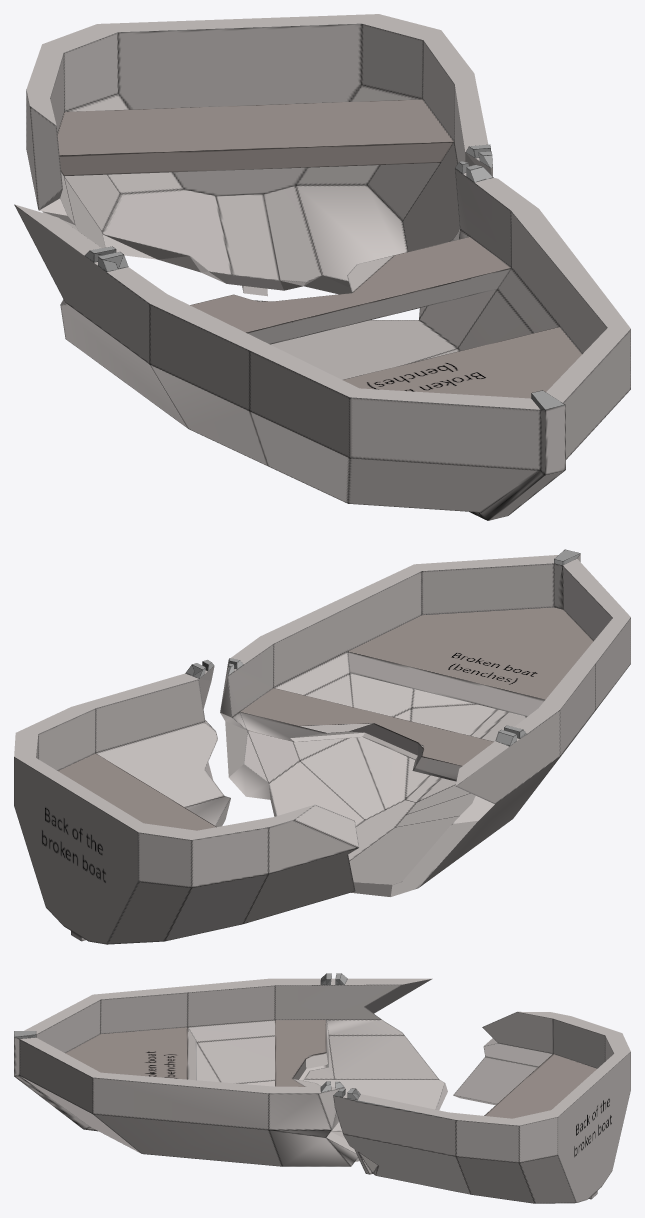
The model's file is Broken_boat01.fbx.
3 views of the same model, one above another, from view 1: azimuth 30°, elevation 25°; view 2: azimuth 150°, elevation 25°; view 3: azimuth 270°, elevation 25° (orthographic). The views are drawn at different scales.
Parts seen in each view (by area): view 1: Broken_boat01_front, Broken_boat01_back; view 2: Broken_boat01_front, Broken_boat01_back; view 3: Broken_boat01_front, Broken_boat01_back.
Part boxes in pixels (x1,y1,x2,y2): Broken_boat01_front: [14, 161, 630, 520]; Broken_boat01_back: [26, 14, 492, 296]; Broken_boat01_front: [220, 549, 630, 896]; Broken_boat01_back: [14, 660, 359, 944]; Broken_boat01_front: [14, 973, 447, 1166]; Broken_boat01_back: [333, 1011, 630, 1203].
Size of the model in its own units: 204 by 76.38 by 362.
1 material, 1 textured.
